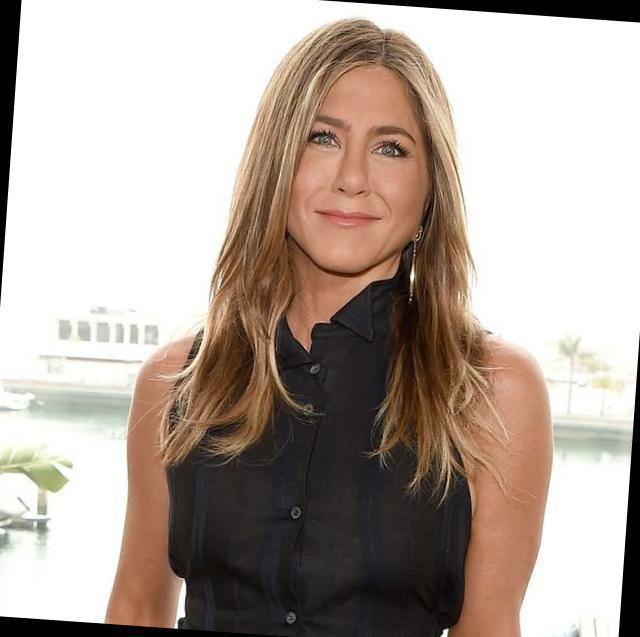Sober: (289, 67, 424, 262)
